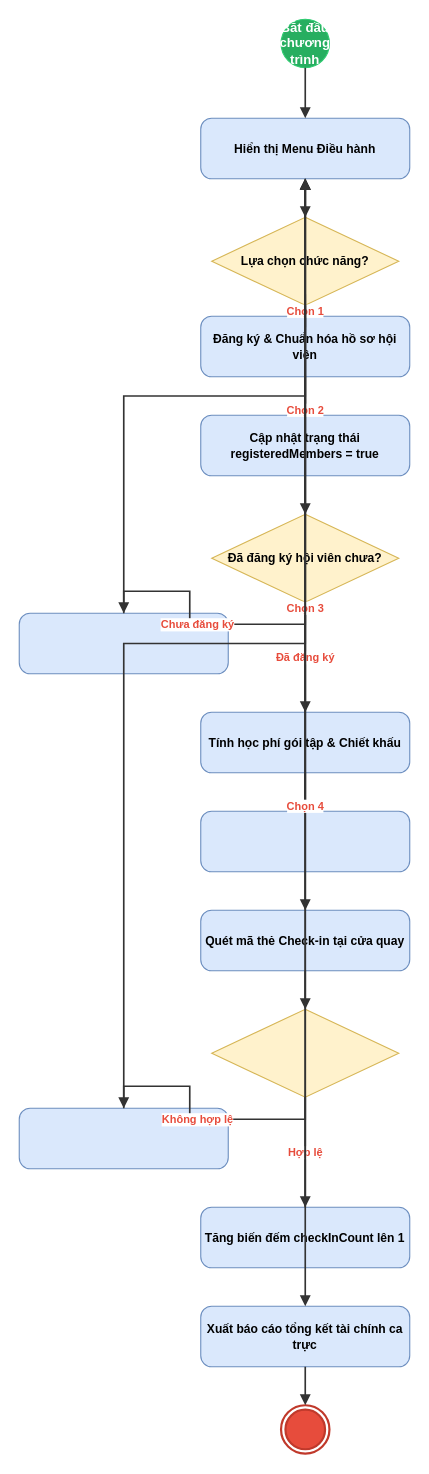
The diagram is 429 pixels wide and 1474 high, and some of its shapes have lost their labels. Here are the shapes that lost their labels. From the top down, the box of each, then its label:
(18, 612, 228, 674): Cảnh báo lỗi: Yêu cầu đăng ký trước
(200, 810, 410, 872): Cập nhật tổng doanh thu totalRevenue
(211, 1008, 399, 1097): Kiểm tra định dạng GYM-...-YYYY
(18, 1107, 228, 1169): Báo lỗi thẻ không hợp lệ
(279, 1404, 330, 1454): Kết thúc chương trình
